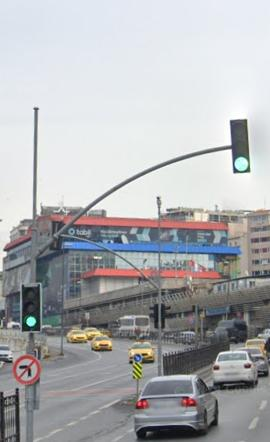greenlight: (230, 117, 252, 174), (20, 282, 42, 330)
leftturnsareforbidden: (14, 356, 39, 386)
